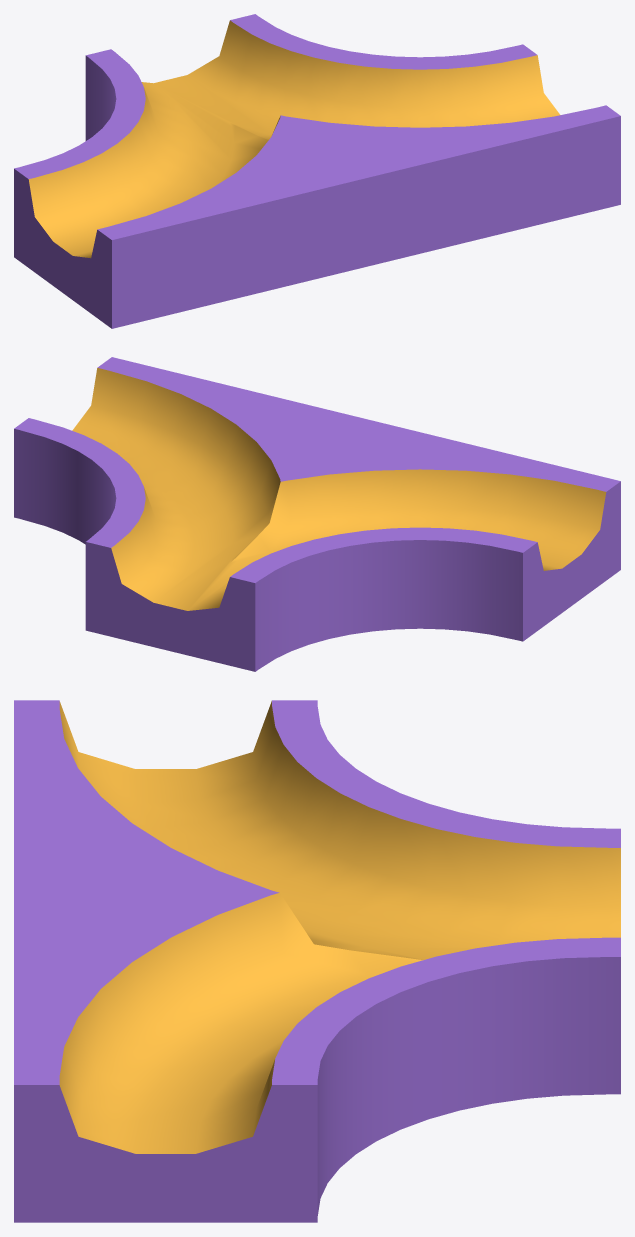
File: kenney-marble-split-double-sides-solid.glb
3 views of the same model, one above another, from view 1: azimuth 30°, elevation 25°; view 2: azimuth 150°, elevation 25°; view 3: azimuth 270°, elevation 25° (orthographic). The views are drawn at different scales.
Visible parts, largest first — view 1: split-double-sides-solid; view 2: split-double-sides-solid; view 3: split-double-sides-solid.
Part boxes in pixels (x1,y1,x2,y2): split-double-sides-solid: [14, 14, 620, 328]; split-double-sides-solid: [14, 357, 620, 671]; split-double-sides-solid: [14, 700, 620, 1222].
Bounding box in the file's own units: 3 × 0.4999 × 2.
1 material, 1 textured.
